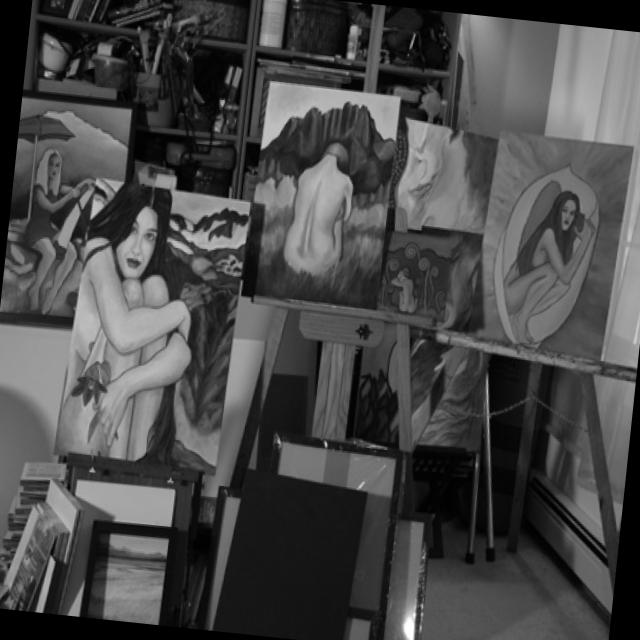2001: (537, 30, 640, 534)
easel: (225, 295, 430, 515)
floor -X: (0, 448, 607, 640)
frames occluded: (198, 430, 432, 640)
picture crop: (53, 177, 250, 473), (466, 129, 631, 360), (237, 81, 397, 308), (78, 518, 177, 624)
picture of flag: (0, 92, 134, 327), (352, 232, 481, 458), (384, 114, 498, 233)
pictures in frames: (0, 456, 84, 612)
shelves: (24, 0, 459, 202)
wall clock: (493, 25, 640, 621)
